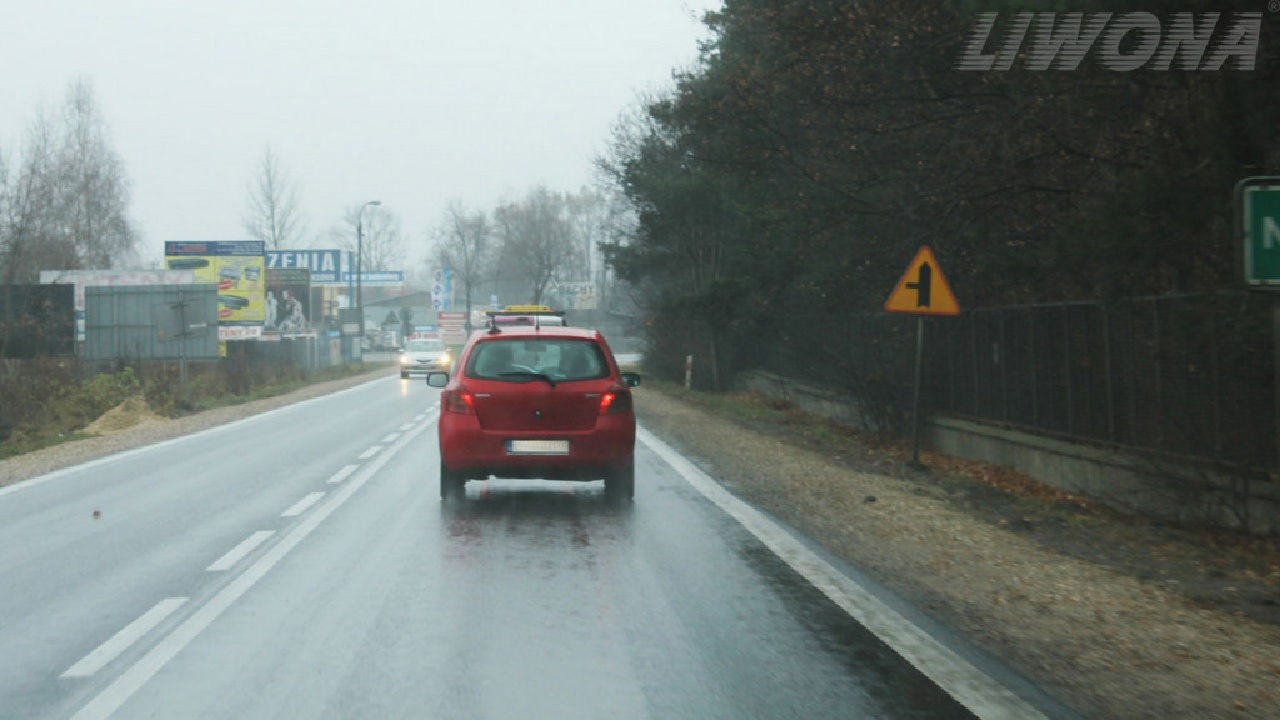A6c: (882, 245, 961, 317)
